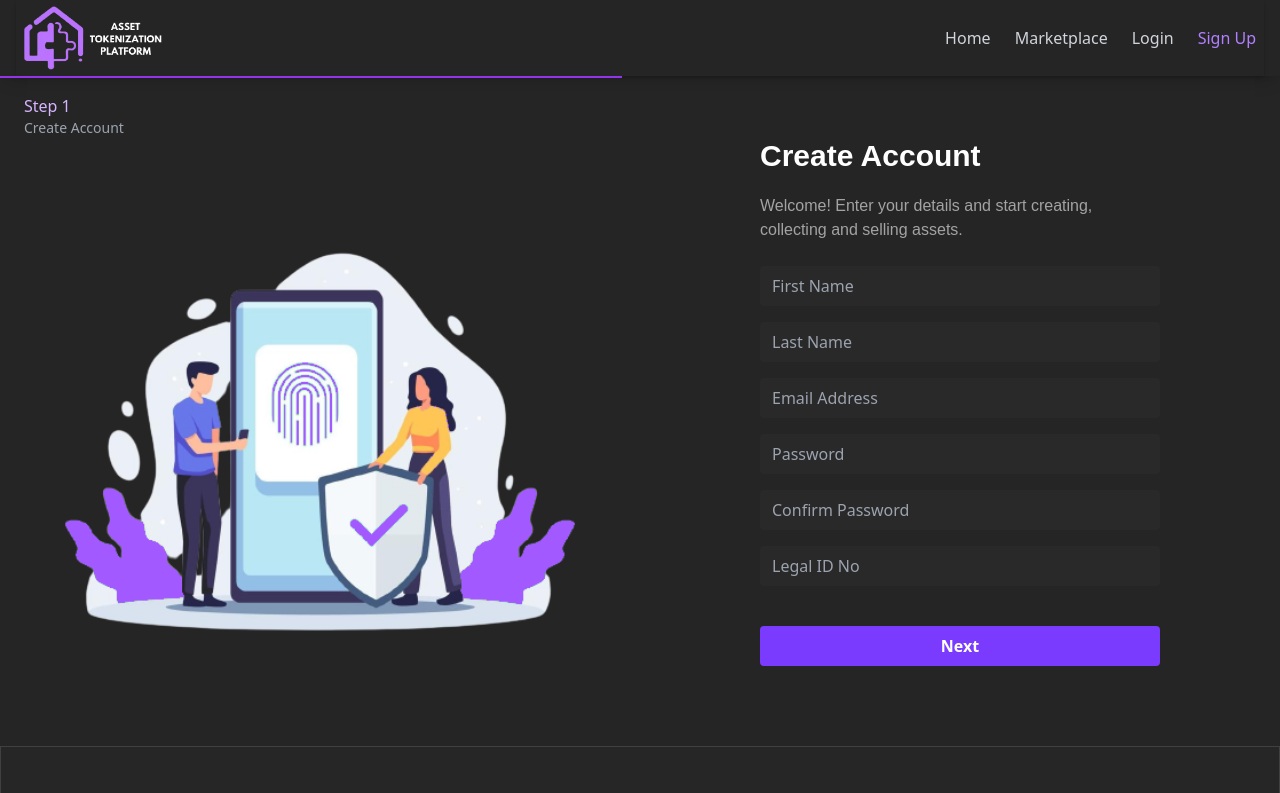
Registration › should display connect wallet step after form submission
Type "John" into the field named "firstName" at (960, 286), box [760,266,1160,306]
Type "Doe" into the field named "lastName" at (960, 342), box [760,322,1160,362]
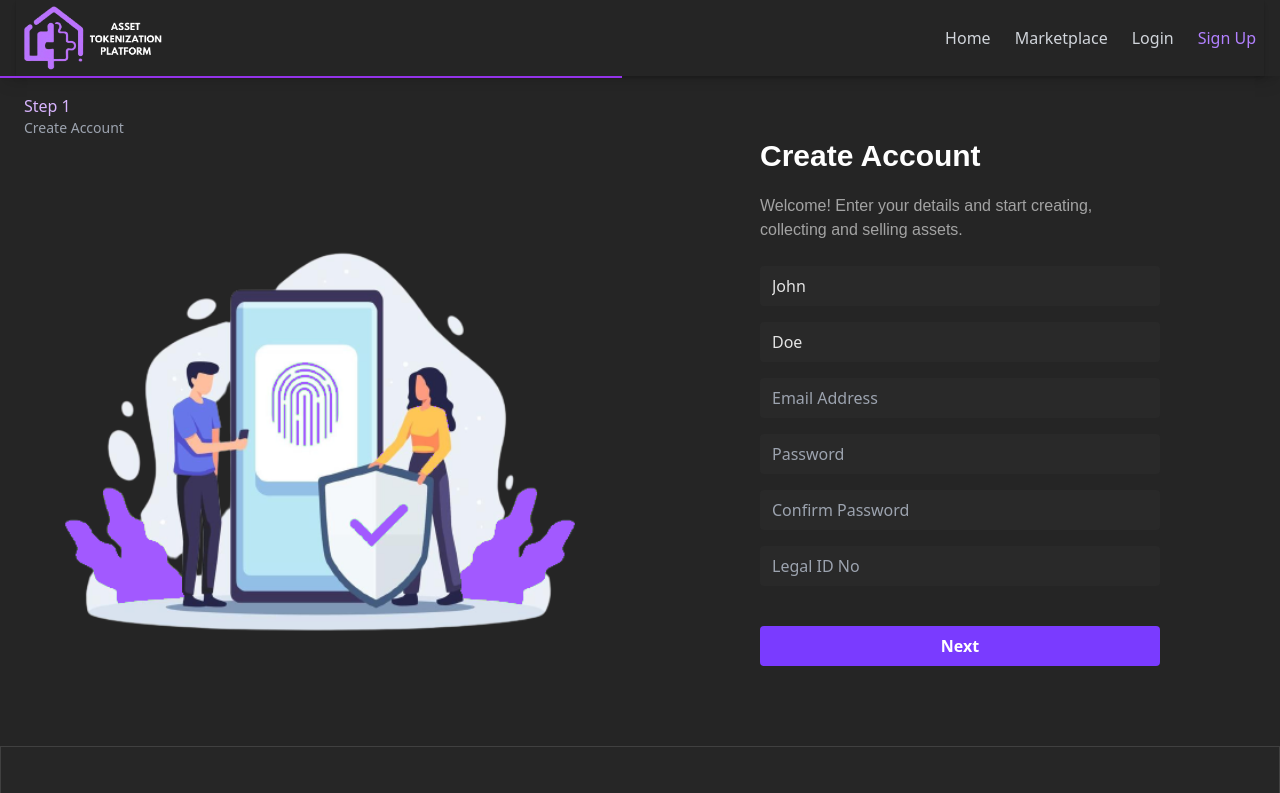
Type "john.doe@example.com" into the field named "email" at (960, 398), box [760,378,1160,418]
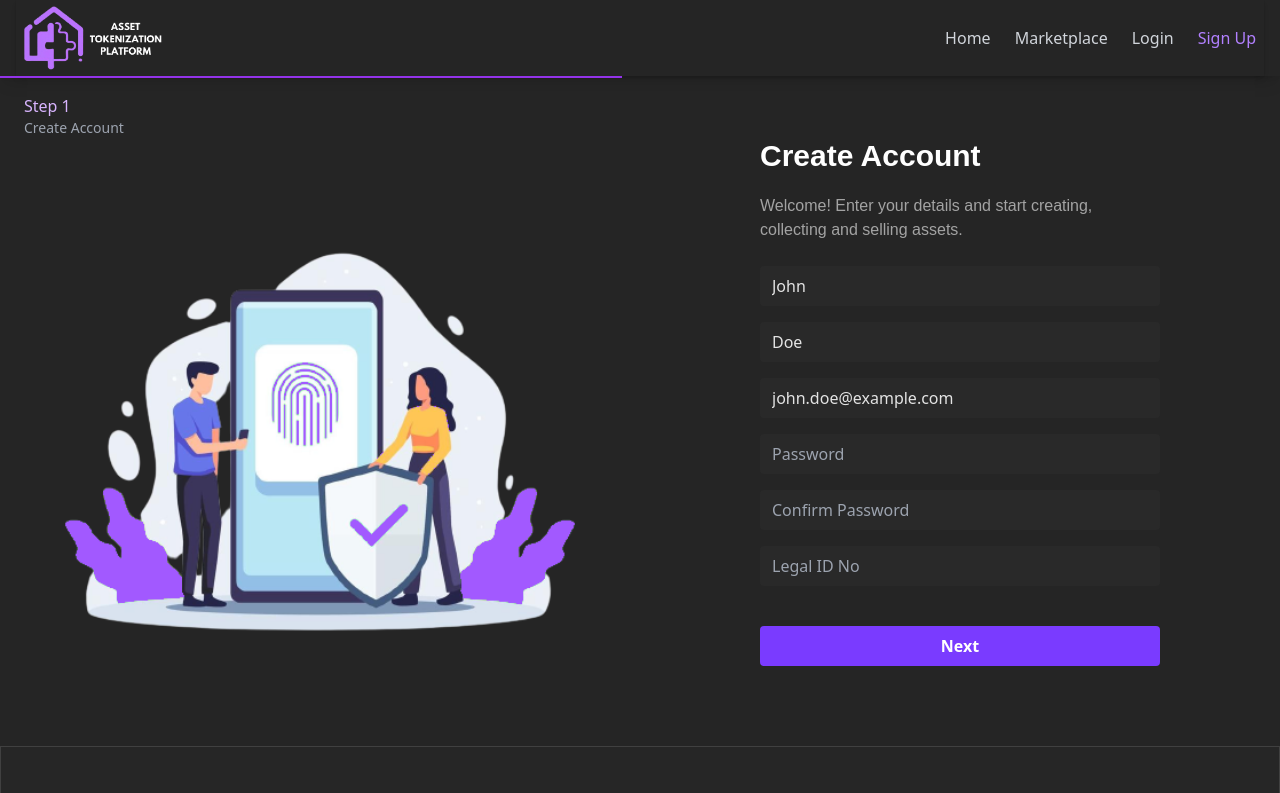
Type "password123" into the password field named "password" at (960, 454), box [760,434,1160,474]
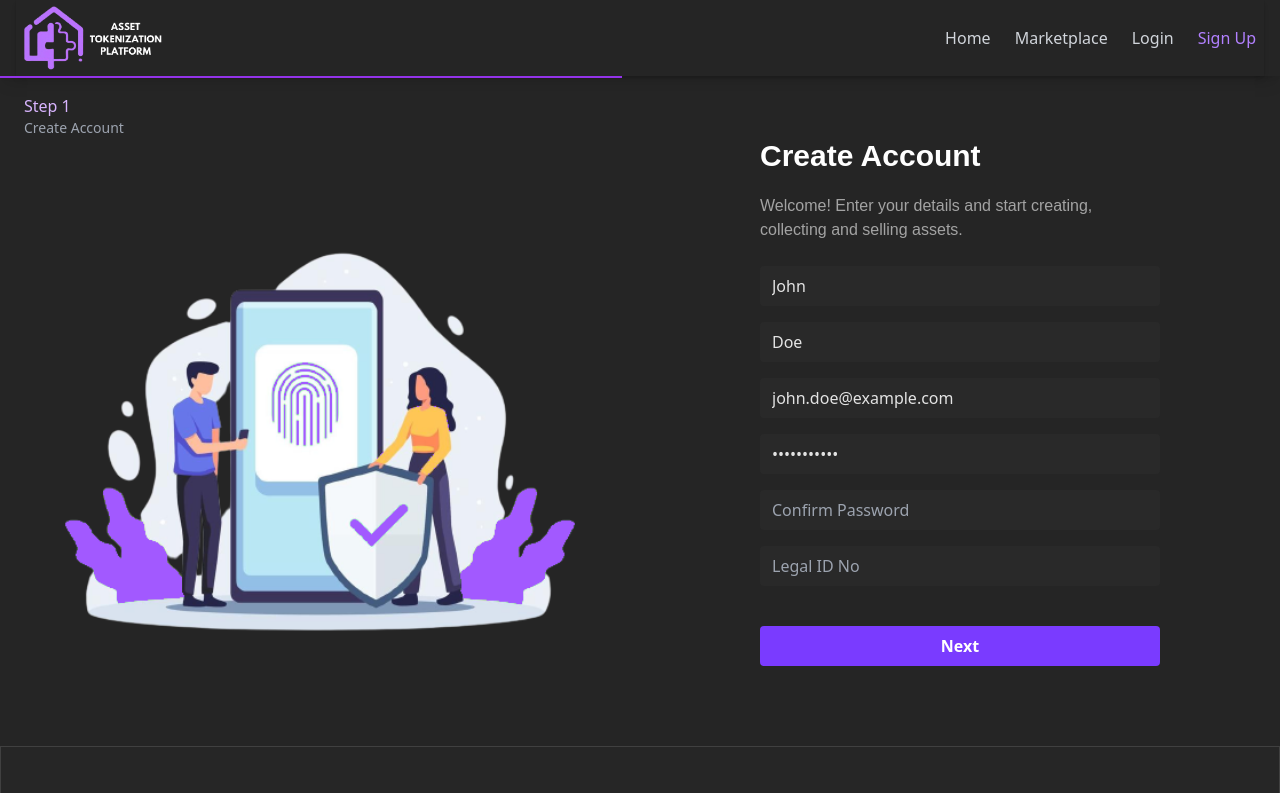
Type "password123" into the password field named "confirmPassword" at (960, 510), box [760,490,1160,530]
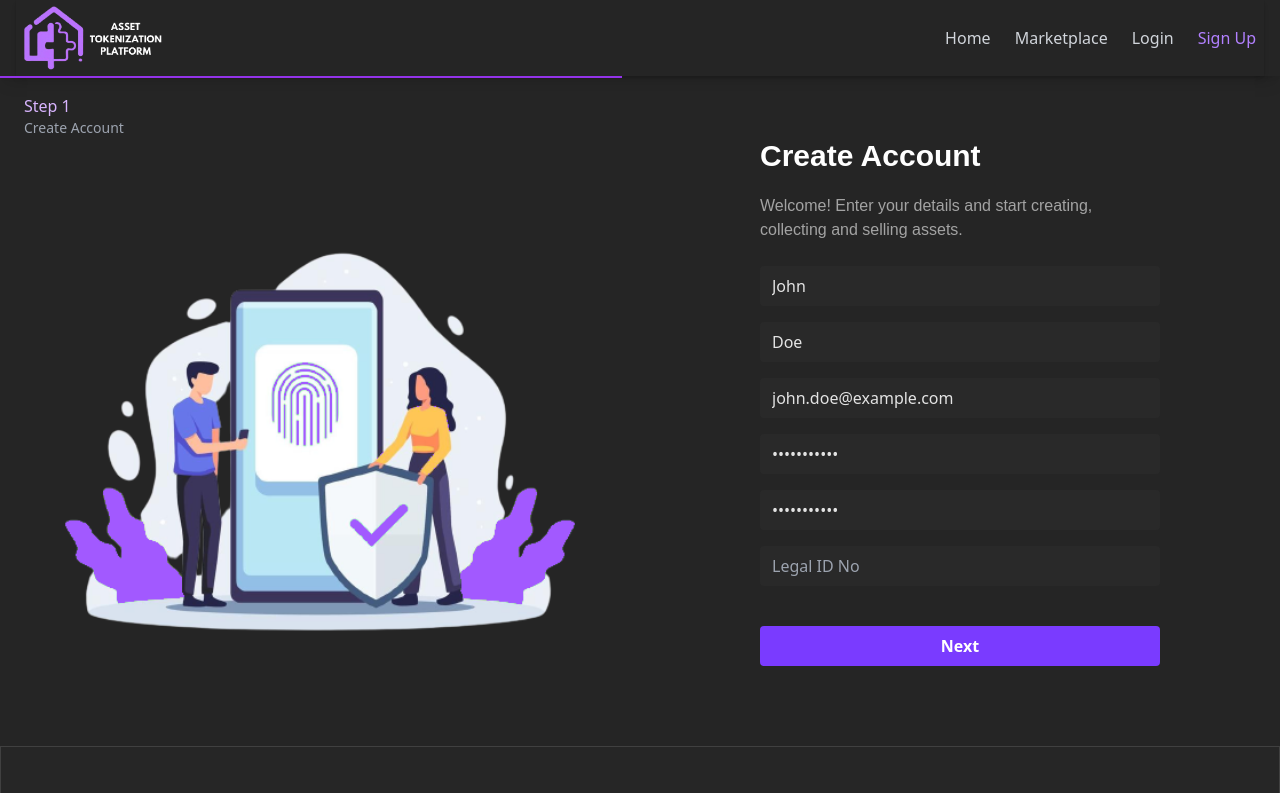
Type "1234567890" into the field named "nationalID" at (960, 566), box [760,546,1160,586]
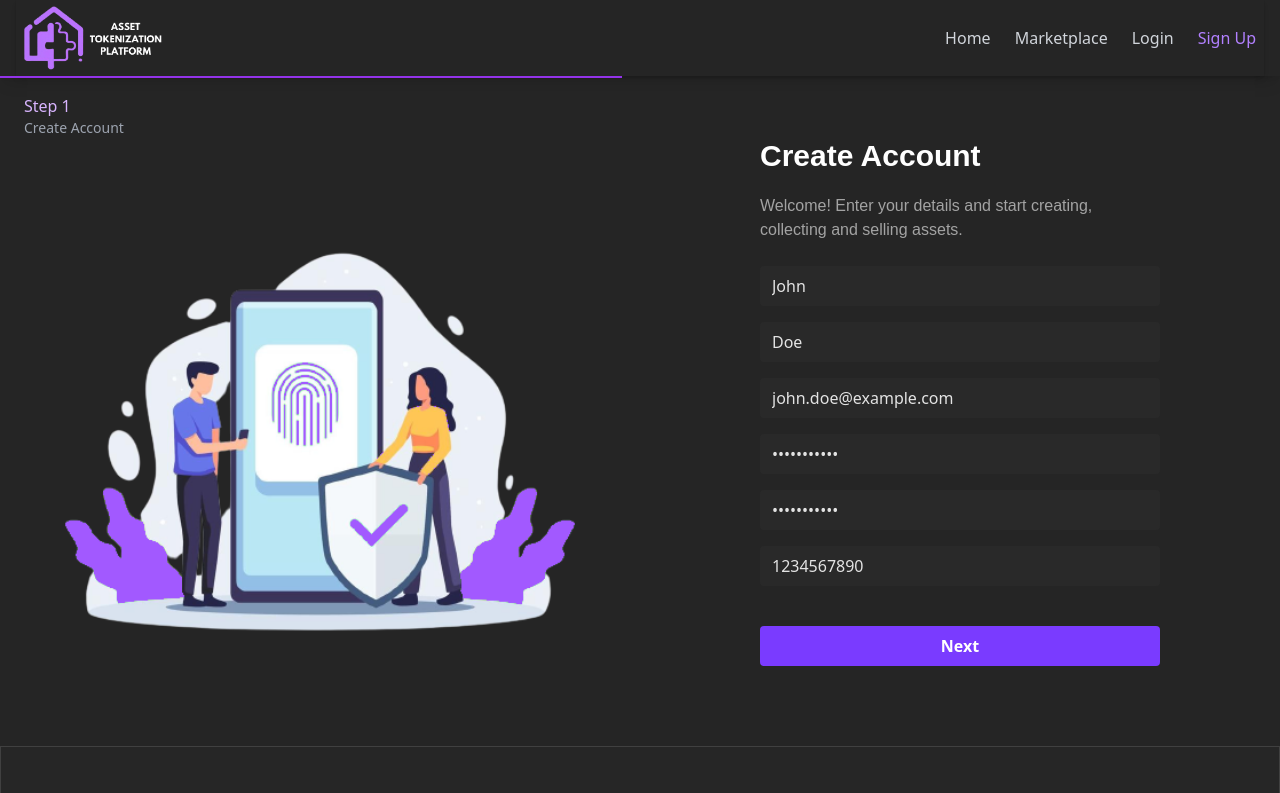
Click the submit button at (960, 646), box [760,626,1160,666]
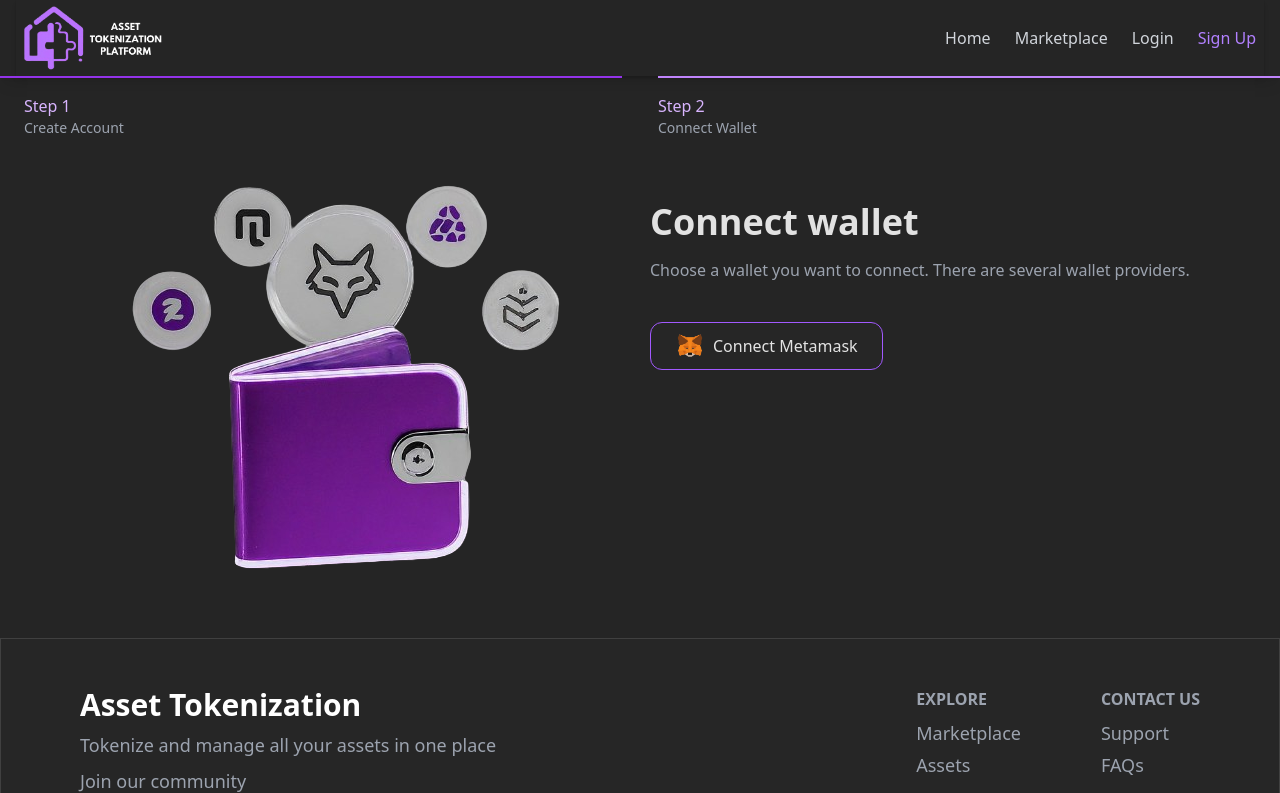
Expected: the heading "Connect Wallet" is shown, [658,118,757,137]
